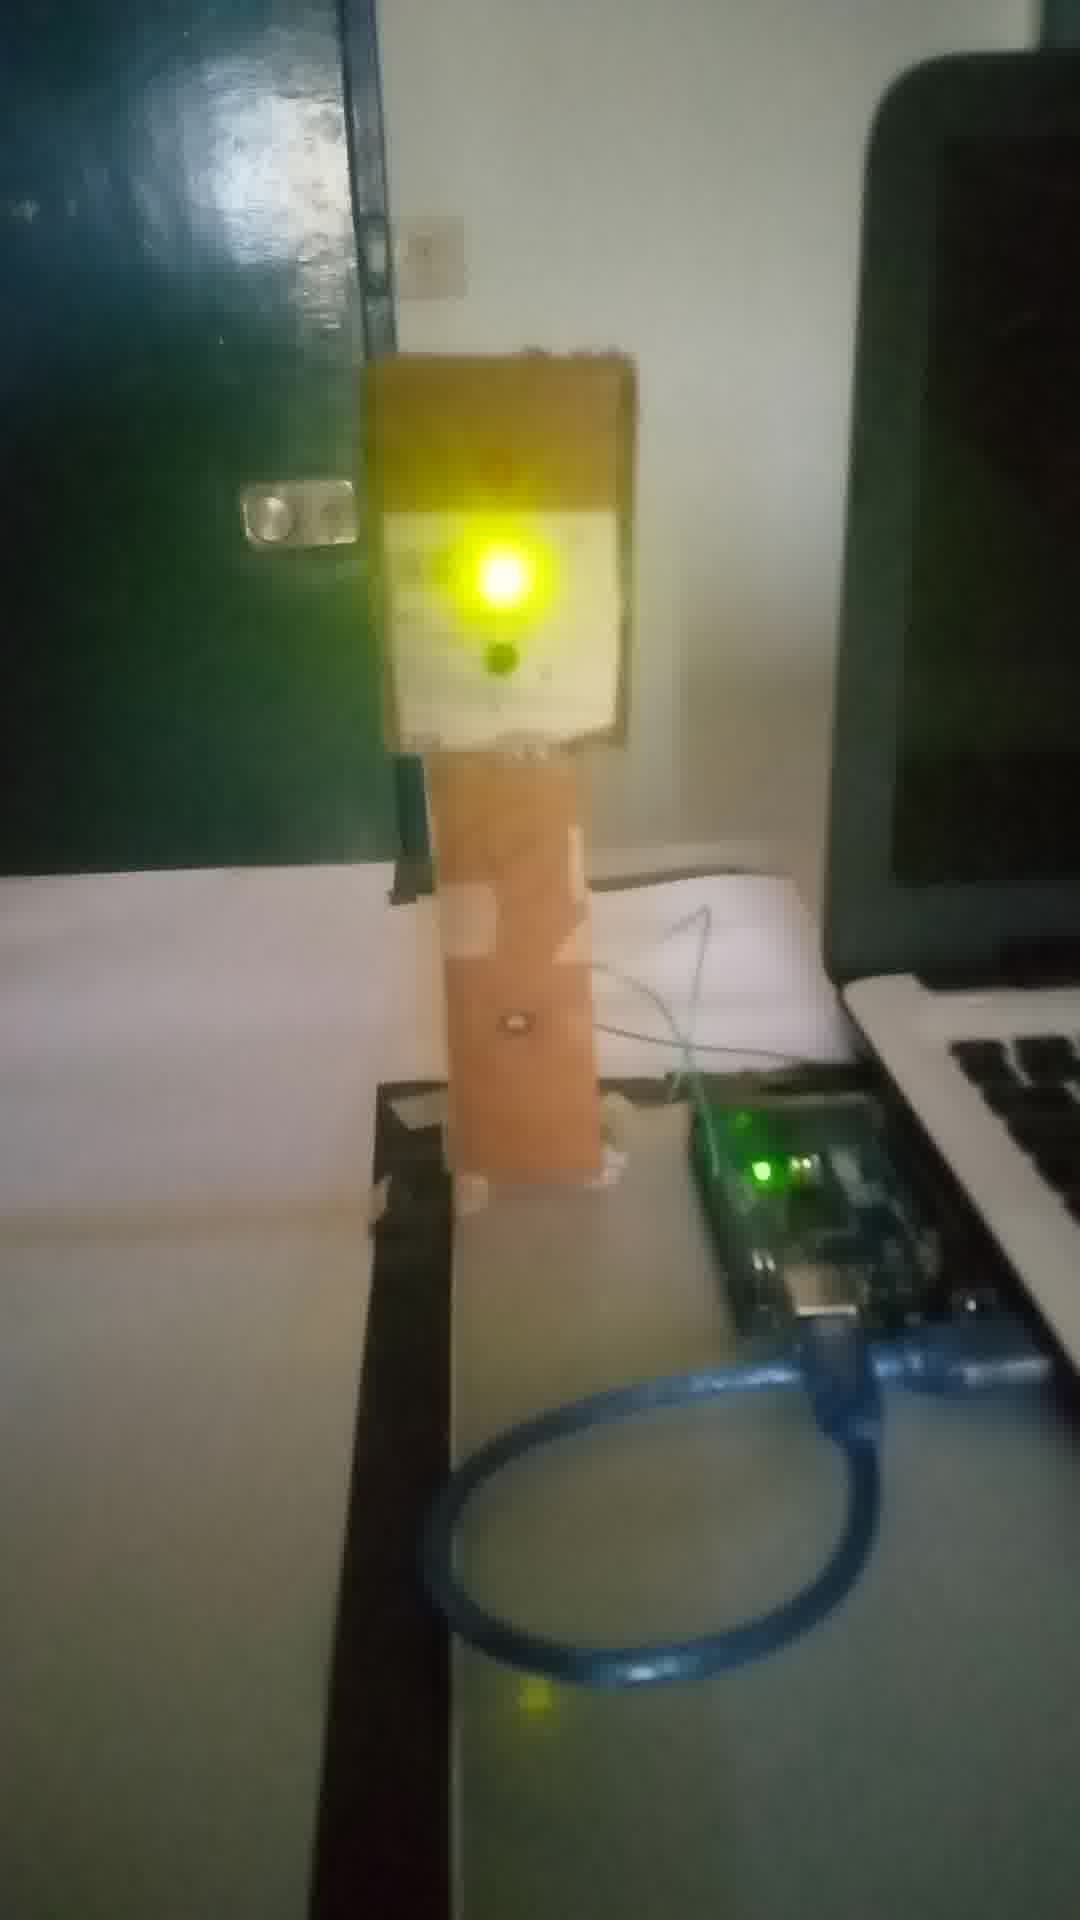yellow: (364, 360, 615, 749)
